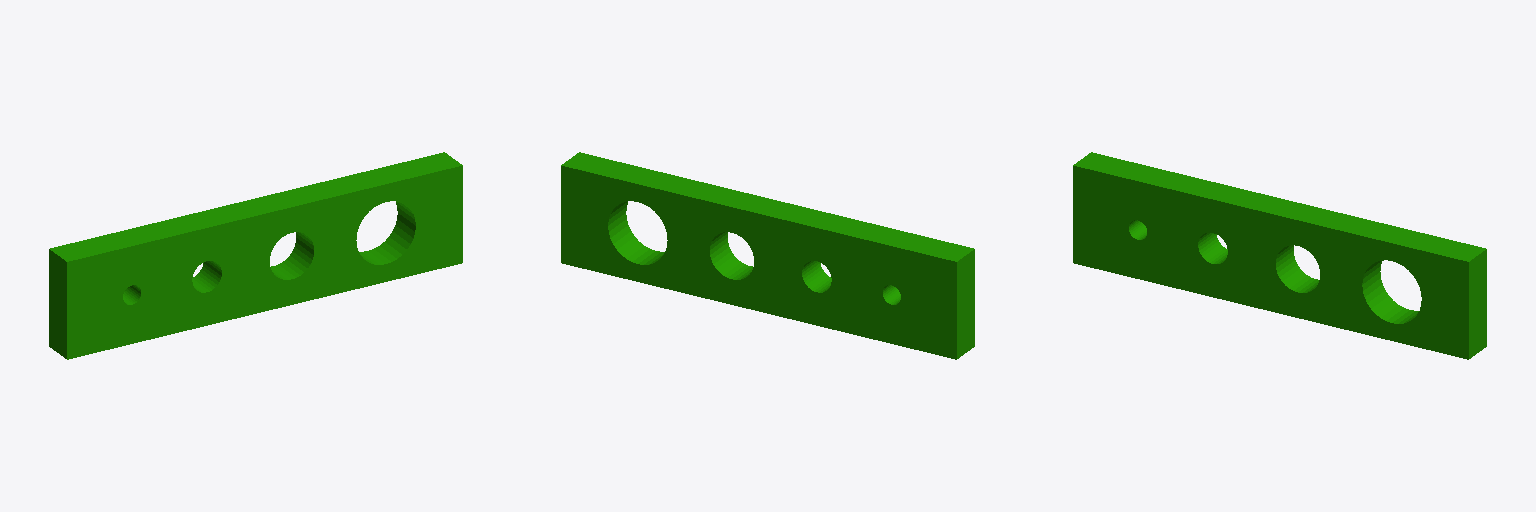
Rendered from Fin2.OBJ.
3 renders of one model, left to right at view 1: azimuth 30°, elevation 25°; view 2: azimuth 150°, elevation 25°; view 3: azimuth 330°, elevation 25°, orthographic.
Parts seen in each view (by area): view 1: /ambf/env/Fin2_Fin2_Cube.003; view 2: /ambf/env/Fin2_Fin2_Cube.003; view 3: /ambf/env/Fin2_Fin2_Cube.003.
Part boxes in pixels (x1,y1,x2,y2): /ambf/env/Fin2_Fin2_Cube.003: (49,152,462,359); /ambf/env/Fin2_Fin2_Cube.003: (561,152,974,359); /ambf/env/Fin2_Fin2_Cube.003: (1073,152,1486,359).
Bounding box in the file's own units: 0.3822 × 0.0902 × 0.0304.